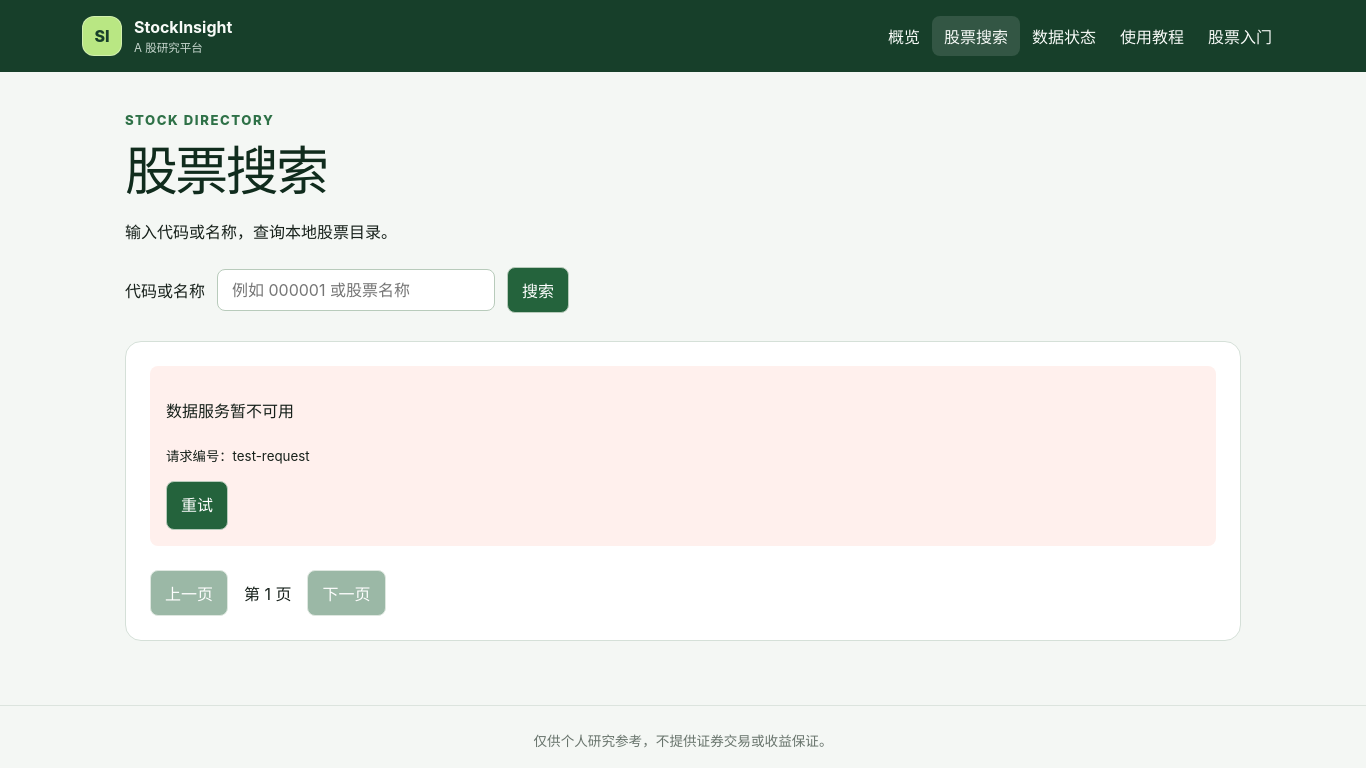
Test: local query pages › renders error with request id and retries successfully
Expected: the message "数据服务暂不可用 请求编号：test-request 重试" is shown, [150, 366, 1216, 546]
Click the button "重试" at (197, 505), box [166, 481, 228, 530]
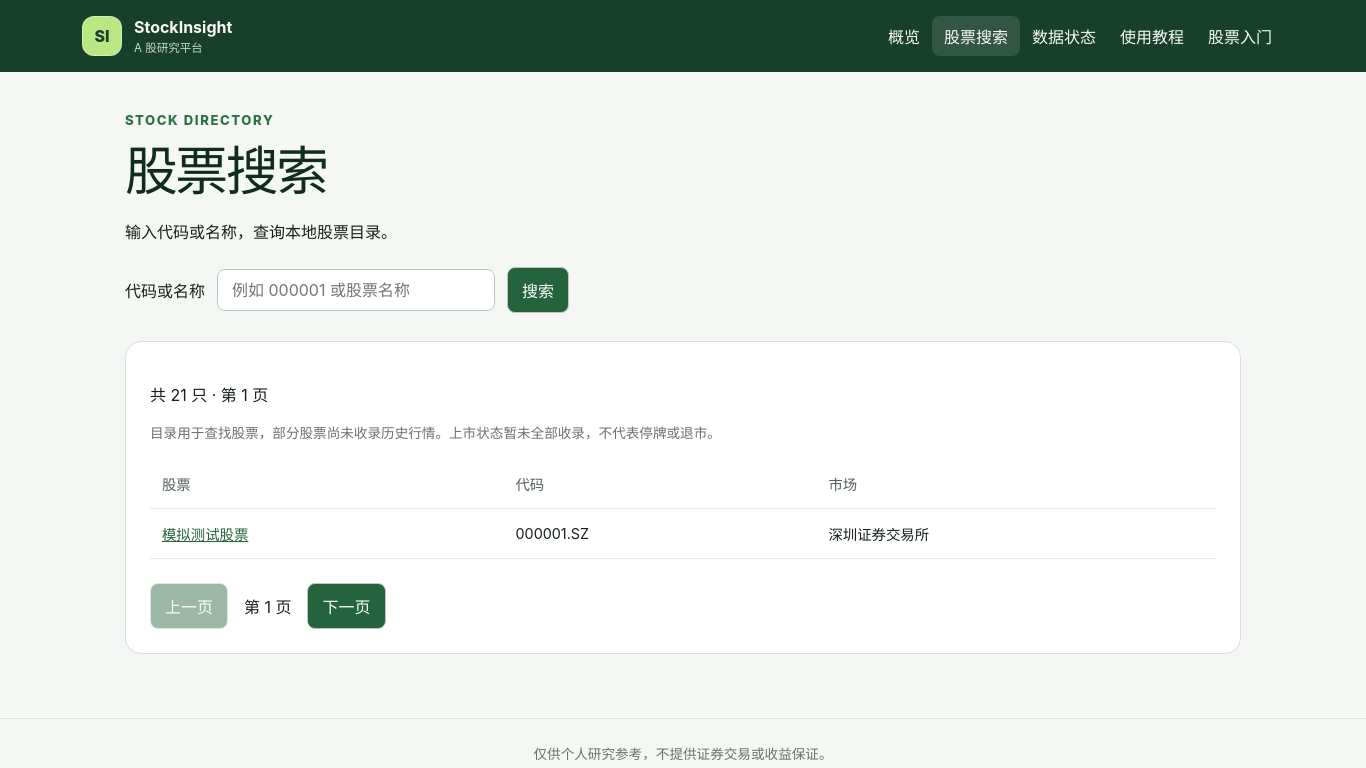
Result: the table shows "模拟测试股票" at [162, 526, 248, 543]
